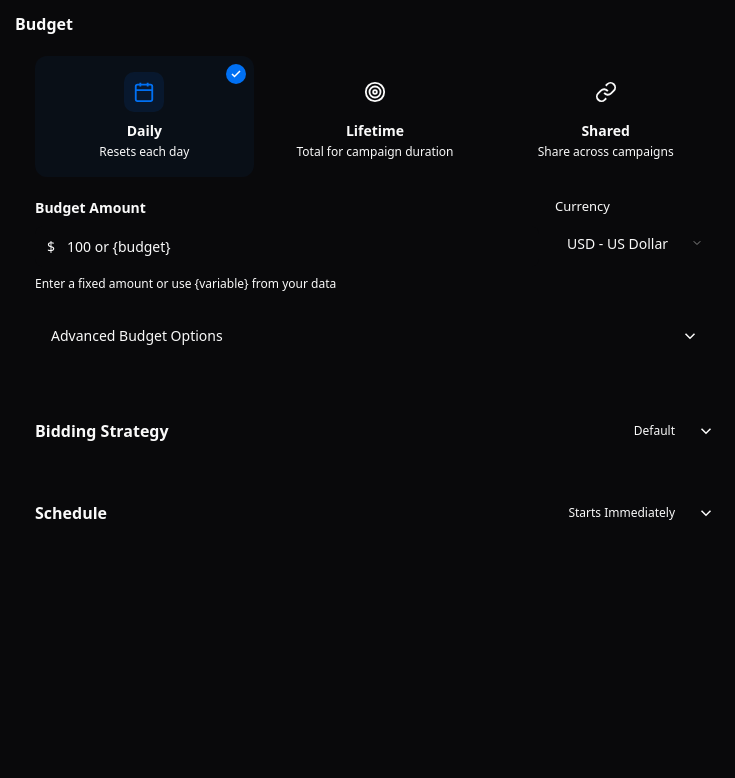
Scenario: BudgetBiddingConfig › Section Expansion/Collapse › toggles advanced budget options when clicked
expect the text "pacing strategy" is not shown: met
Click the button "Advanced Budget Options" at (137, 336), box [35, 313, 715, 358]
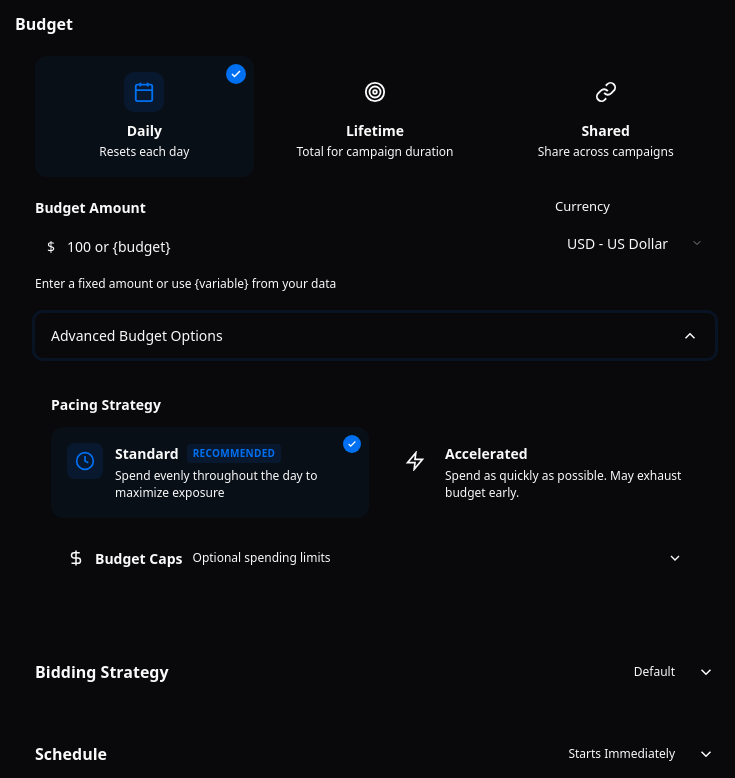
expect the heading "Pacing Strategy" is shown: met, box [51, 395, 161, 414]
